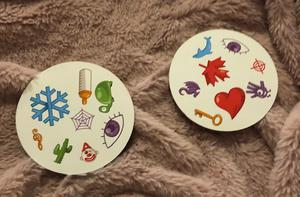biberon: (77, 67, 93, 107)
cactus: (48, 136, 74, 165)
cible: (248, 57, 268, 75)
cle: (192, 105, 221, 126)
clown: (78, 140, 101, 164)
coeur: (212, 87, 247, 119)
dauphin: (192, 34, 214, 60)
dooble: (245, 78, 272, 101)
dragon: (175, 79, 202, 99)
feuille: (195, 55, 231, 87)
flocon: (29, 82, 73, 128)
note: (30, 126, 45, 152)
oeuil: (97, 111, 126, 150), (220, 36, 251, 55)
toile: (68, 107, 96, 133)
tortue: (94, 78, 116, 115)
